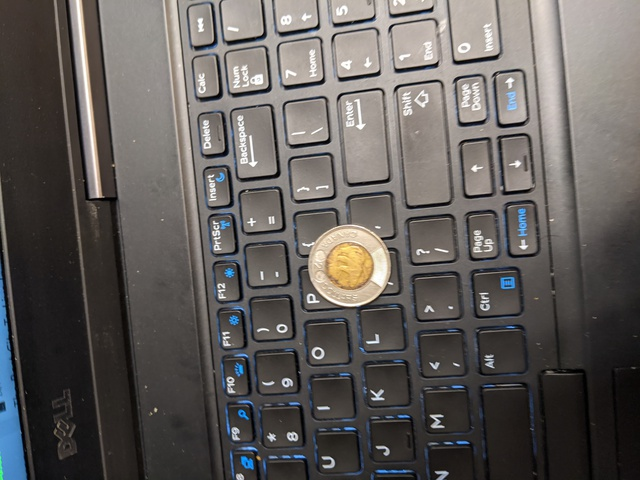twonie: (297, 224, 399, 316)
